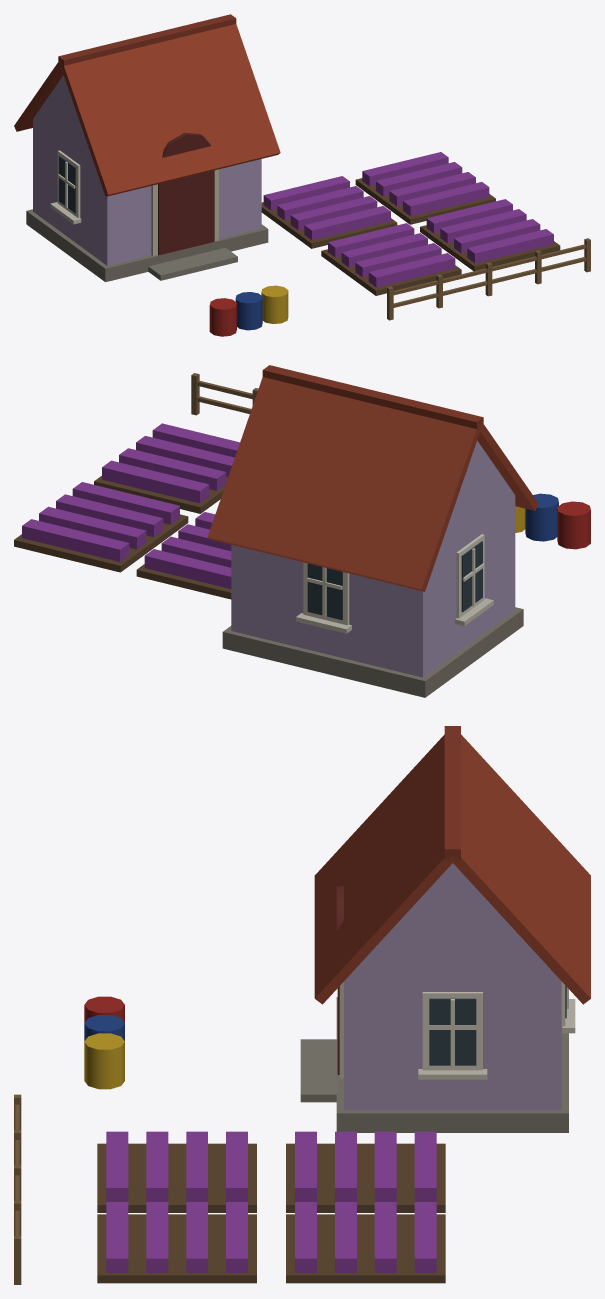
Rendered from procedural_dye_garden@4.glb.
3 renders of one model, top to bottom at view 1: azimuth 30°, elevation 25°; view 2: azimuth 150°, elevation 25°; view 3: azimuth 270°, elevation 25°, orthographic. The views are drawn at different scales.
Parts seen in each view (by area): view 1: part_0; view 2: part_0; view 3: part_0.
Boxes of the visible parts, x1=… form: part_0: x1=14, y1=14, x2=590, y2=336; part_0: x1=14, y1=365, x2=590, y2=697; part_0: x1=14, y1=726, x2=590, y2=1284.
Bounding box in the file's own units: 8.86 × 4.37 × 7.95.
